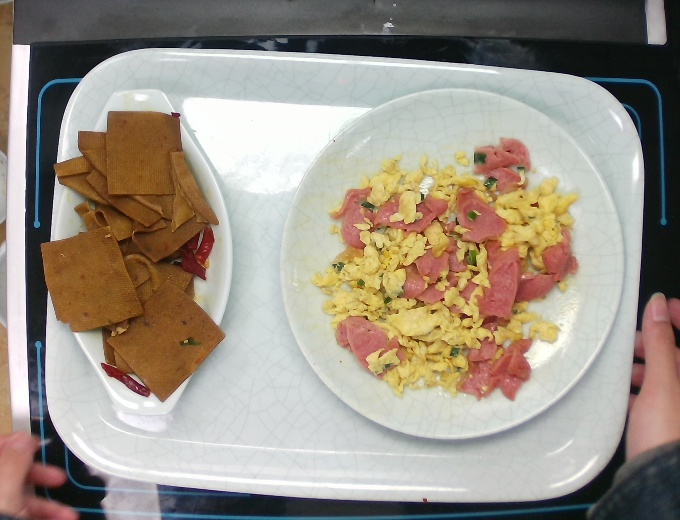JYsf-Da_Yuan_Pan: (274, 75, 636, 442)
JYsf-Yu_Pan: (43, 80, 240, 427)
